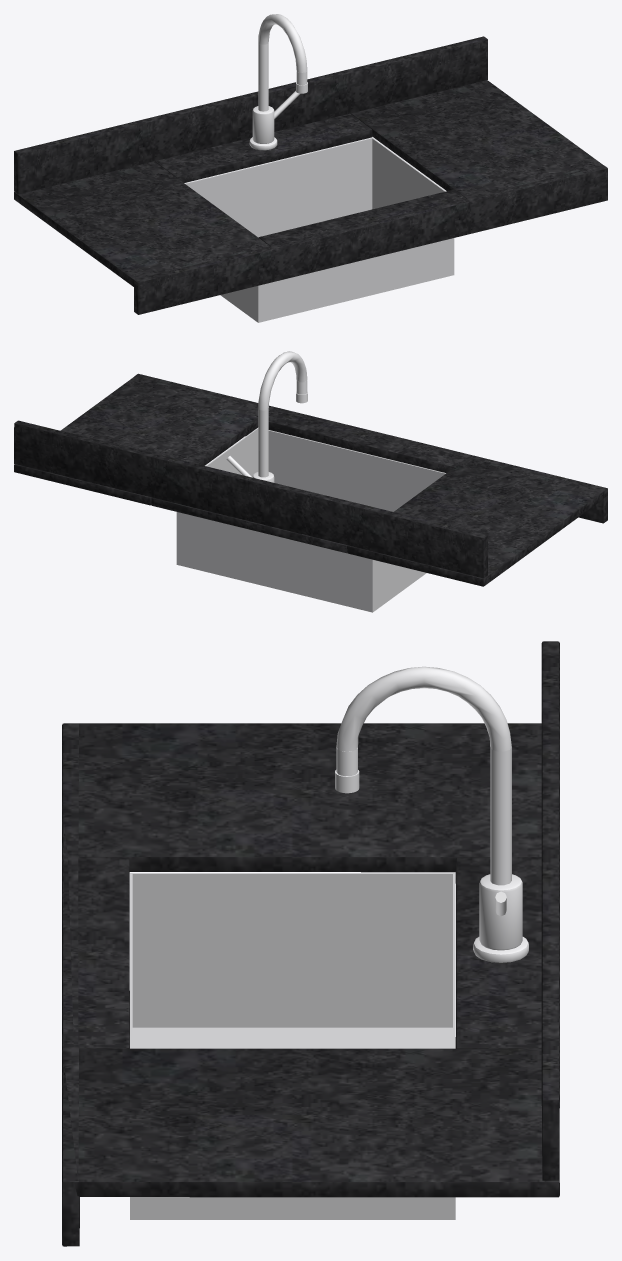
The model's file is HID-ACS-002_lod1.glb.
3 renders of one model, top to bottom at view 1: azimuth 30°, elevation 25°; view 2: azimuth 150°, elevation 25°; view 3: azimuth 270°, elevation 25°, orthographic. The views are drawn at different scales.
Visible parts, largest first — view 1: HID-ACS-002_rodabanca, HID-ACS-002_saia, HID-ACS-002_tampo_e, HID-ACS-002_tampo_d, HID-ACS-002_cuba_y1, HID-ACS-002_cuba_y-1, HID-ACS-002_tampo_t, HID-ACS-002_tampo_f, HID-ACS-002_cuba_x1, HID-ACS-002_t_bica, HID-ACS-002_cuba_x-1, HID-ACS-002_t_corpo (+1 smaller); view 2: HID-ACS-002_rodabanca, HID-ACS-002_tampo_e, HID-ACS-002_tampo_d, HID-ACS-002_cuba_y1, HID-ACS-002_cuba_y-1, HID-ACS-002_tampo_f, HID-ACS-002_saia, HID-ACS-002_tampo_t, HID-ACS-002_cuba_x-1, HID-ACS-002_cuba_x1, HID-ACS-002_t_bica, HID-ACS-002_t_tubo (+1 smaller); view 3: HID-ACS-002_tampo_d, HID-ACS-002_tampo_e, HID-ACS-002_cuba_x-1, HID-ACS-002_tampo_t, HID-ACS-002_tampo_f, HID-ACS-002_rodabanca, HID-ACS-002_cuba_x1, HID-ACS-002_cuba_fundo, HID-ACS-002_saia, HID-ACS-002_t_bica, HID-ACS-002_t_tubo, HID-ACS-002_t_corpo (+1 smaller).
Boxes of the visible parts, left/top/right/bottom form: HID-ACS-002_rodabanca: left=14, top=36, right=487, bottom=194; HID-ACS-002_saia: left=134, top=165, right=607, bottom=314; HID-ACS-002_tampo_e: left=14, top=161, right=273, bottom=289; HID-ACS-002_tampo_d: left=350, top=80, right=607, bottom=201; HID-ACS-002_cuba_y1: left=185, top=137, right=372, bottom=237; HID-ACS-002_cuba_y-1: left=259, top=238, right=452, bottom=321; HID-ACS-002_tampo_t: left=154, top=113, right=372, bottom=182; HID-ACS-002_tampo_f: left=258, top=189, right=470, bottom=255; HID-ACS-002_cuba_x1: left=372, top=138, right=454, bottom=273; HID-ACS-002_t_bica: left=258, top=14, right=307, bottom=72; HID-ACS-002_cuba_x-1: left=220, top=285, right=259, bottom=322; HID-ACS-002_t_corpo: left=252, top=106, right=274, bottom=143; HID-ACS-002_rodabanca: left=14, top=420, right=487, bottom=578; HID-ACS-002_tampo_e: left=347, top=455, right=607, bottom=586; HID-ACS-002_tampo_d: left=14, top=373, right=270, bottom=505; HID-ACS-002_cuba_y1: left=178, top=512, right=373, bottom=611; HID-ACS-002_cuba_y-1: left=258, top=427, right=445, bottom=511; HID-ACS-002_tampo_f: left=268, top=407, right=469, bottom=472; HID-ACS-002_saia: left=134, top=374, right=607, bottom=523; HID-ACS-002_tampo_t: left=151, top=497, right=347, bottom=553; HID-ACS-002_cuba_x-1: left=371, top=559, right=426, bottom=612; HID-ACS-002_cuba_x1: left=176, top=428, right=258, bottom=564; HID-ACS-002_t_bica: left=258, top=351, right=307, bottom=410; HID-ACS-002_t_tubo: left=258, top=409, right=268, bottom=477; HID-ACS-002_tampo_d: left=62, top=1048, right=559, bottom=1197; HID-ACS-002_tampo_e: left=63, top=723, right=541, bottom=872; HID-ACS-002_cuba_x-1: left=132, top=873, right=452, bottom=1027; HID-ACS-002_tampo_t: left=455, top=857, right=541, bottom=1048; HID-ACS-002_tampo_f: left=63, top=857, right=129, bottom=1048; HID-ACS-002_rodabanca: left=541, top=641, right=559, bottom=1180; HID-ACS-002_cuba_x1: left=130, top=1197, right=455, bottom=1219; HID-ACS-002_cuba_fundo: left=132, top=1027, right=452, bottom=1048; HID-ACS-002_saia: left=62, top=723, right=79, bottom=1246; HID-ACS-002_t_bica: left=336, top=666, right=511, bottom=751; HID-ACS-002_t_tubo: left=490, top=747, right=511, bottom=885; HID-ACS-002_t_corpo: left=479, top=874, right=522, bottom=950.
Bounding box in the file's own units: 1.2 × 0.557 × 0.55.
Materials: 3 (1 with a texture image).
